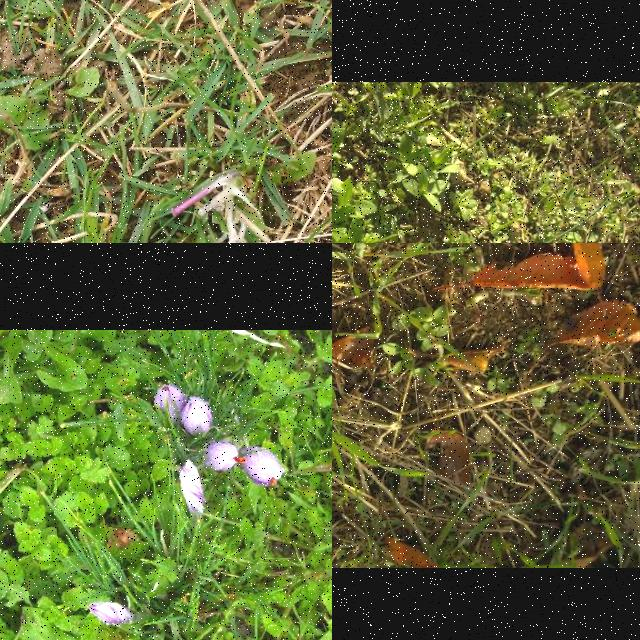flower: (180, 459, 207, 519), (180, 395, 213, 437), (154, 386, 188, 426), (87, 602, 135, 628), (203, 442, 240, 472)
overlap: (154, 385, 212, 437), (238, 446, 284, 486)
